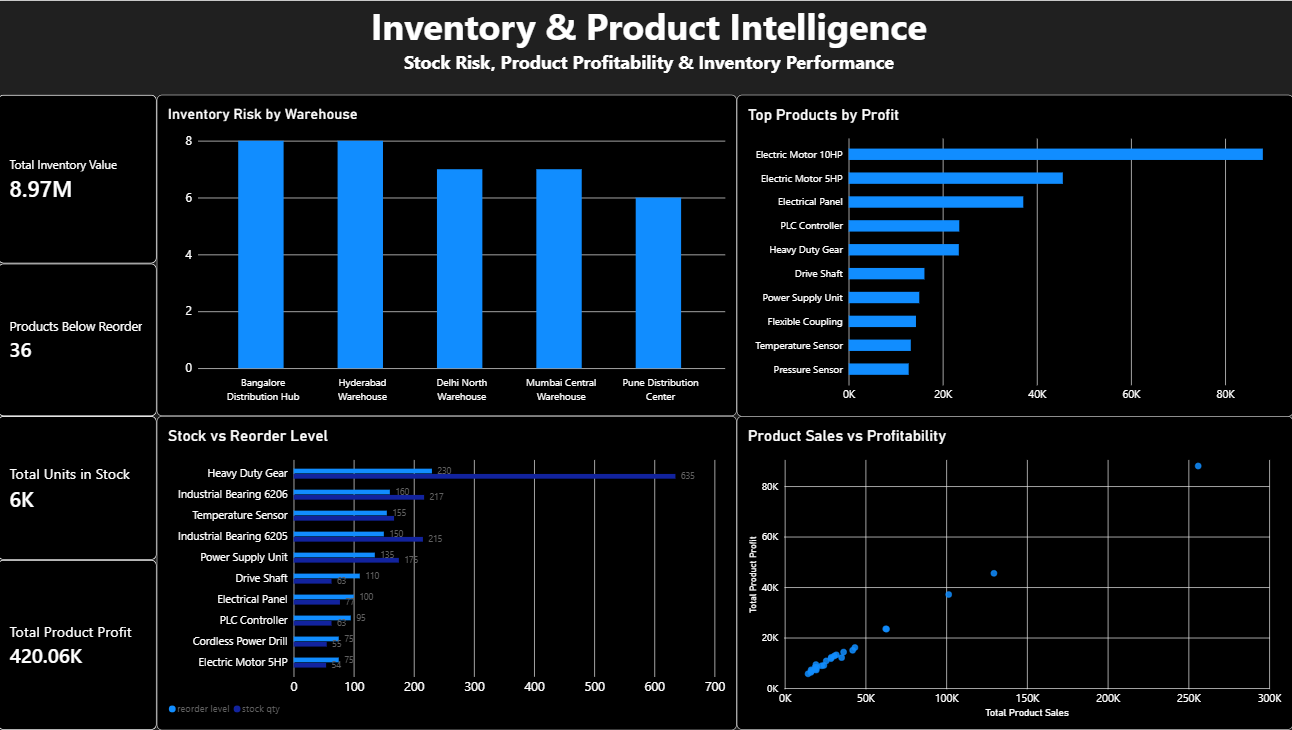

The dashboard page shown, as its layout file describes it:
{"tool":"powerbi","page":{"name":"Inventory & product","canvas":[1920,1080],"ordinal":2},"visuals":[{"type":"textbox","box":[9.2,0,1910.4,138],"z":0},{"type":"cardVisual","fields":{"Data":["DateTable.Total Inventory Value"]},"box":[0,138,235.6,250.3],"z":1000},{"type":"cardVisual","fields":{"Data":["DateTable.Products Below Reorder"]},"box":[0,388.3,235.6,226.4],"z":2000},{"type":"cardVisual","fields":{"Data":["DateTable.Total Units in Stock"]},"box":[0,614.7,235.6,213.5],"z":3000},{"type":"cardVisual","fields":{"Data":["DateTable.Total Product Profit"]},"box":[0,828.2,235.6,252.1],"z":4000},{"type":"clusteredColumnChart","title":"Inventory Risk by Warehouse","fields":{"Category":["public warehouses.warehouse_name"],"Y":["DateTable.Inventory Records Below Reorder"]},"box":[235.2,138.9,859.3,475.9],"z":5000},{"type":"clusteredBarChart","title":"Top Products by Profit","fields":{"Category":["public products.product_name"],"Y":["DateTable.Total Product Profit"]},"box":[1095.1,138,824.5,476.7],"z":6000},{"type":"clusteredBarChart","title":"Stock vs Reorder Level","fields":{"Category":["public products.product_name"],"Y":["Sum(public inventory.reorder_level)","Sum(public inventory.stock_qty)"]},"box":[235.6,614.7,859.5,465.6],"z":7000},{"type":"scatterChart","title":"Product Sales vs Profitability","fields":{"X":["DateTable.Total Product Sales"],"Y":["DateTable.Total Product Profit"],"Category":["public products.product_name"]},"box":[1094.4,614.8,824.1,464.8],"z":8000}]}

Visuals, with their boxes in screenshot pixels (x1, y1, x2, y2), scaled from the page's 1920x1080 canvas onto the 1292x730 screenshot:
textbox: 6/0/1291/93
cardVisual - DateTable.Total Inventory Value: 0/93/159/262
cardVisual - DateTable.Products Below Reorder: 0/262/159/415
cardVisual - DateTable.Total Units in Stock: 0/415/159/560
cardVisual - DateTable.Total Product Profit: 0/560/159/729
"Inventory Risk by Warehouse" clusteredColumnChart: 158/94/737/416
"Top Products by Profit" clusteredBarChart: 737/93/1291/415
"Stock vs Reorder Level" clusteredBarChart: 159/415/737/729
"Product Sales vs Profitability" scatterChart: 736/416/1291/729
